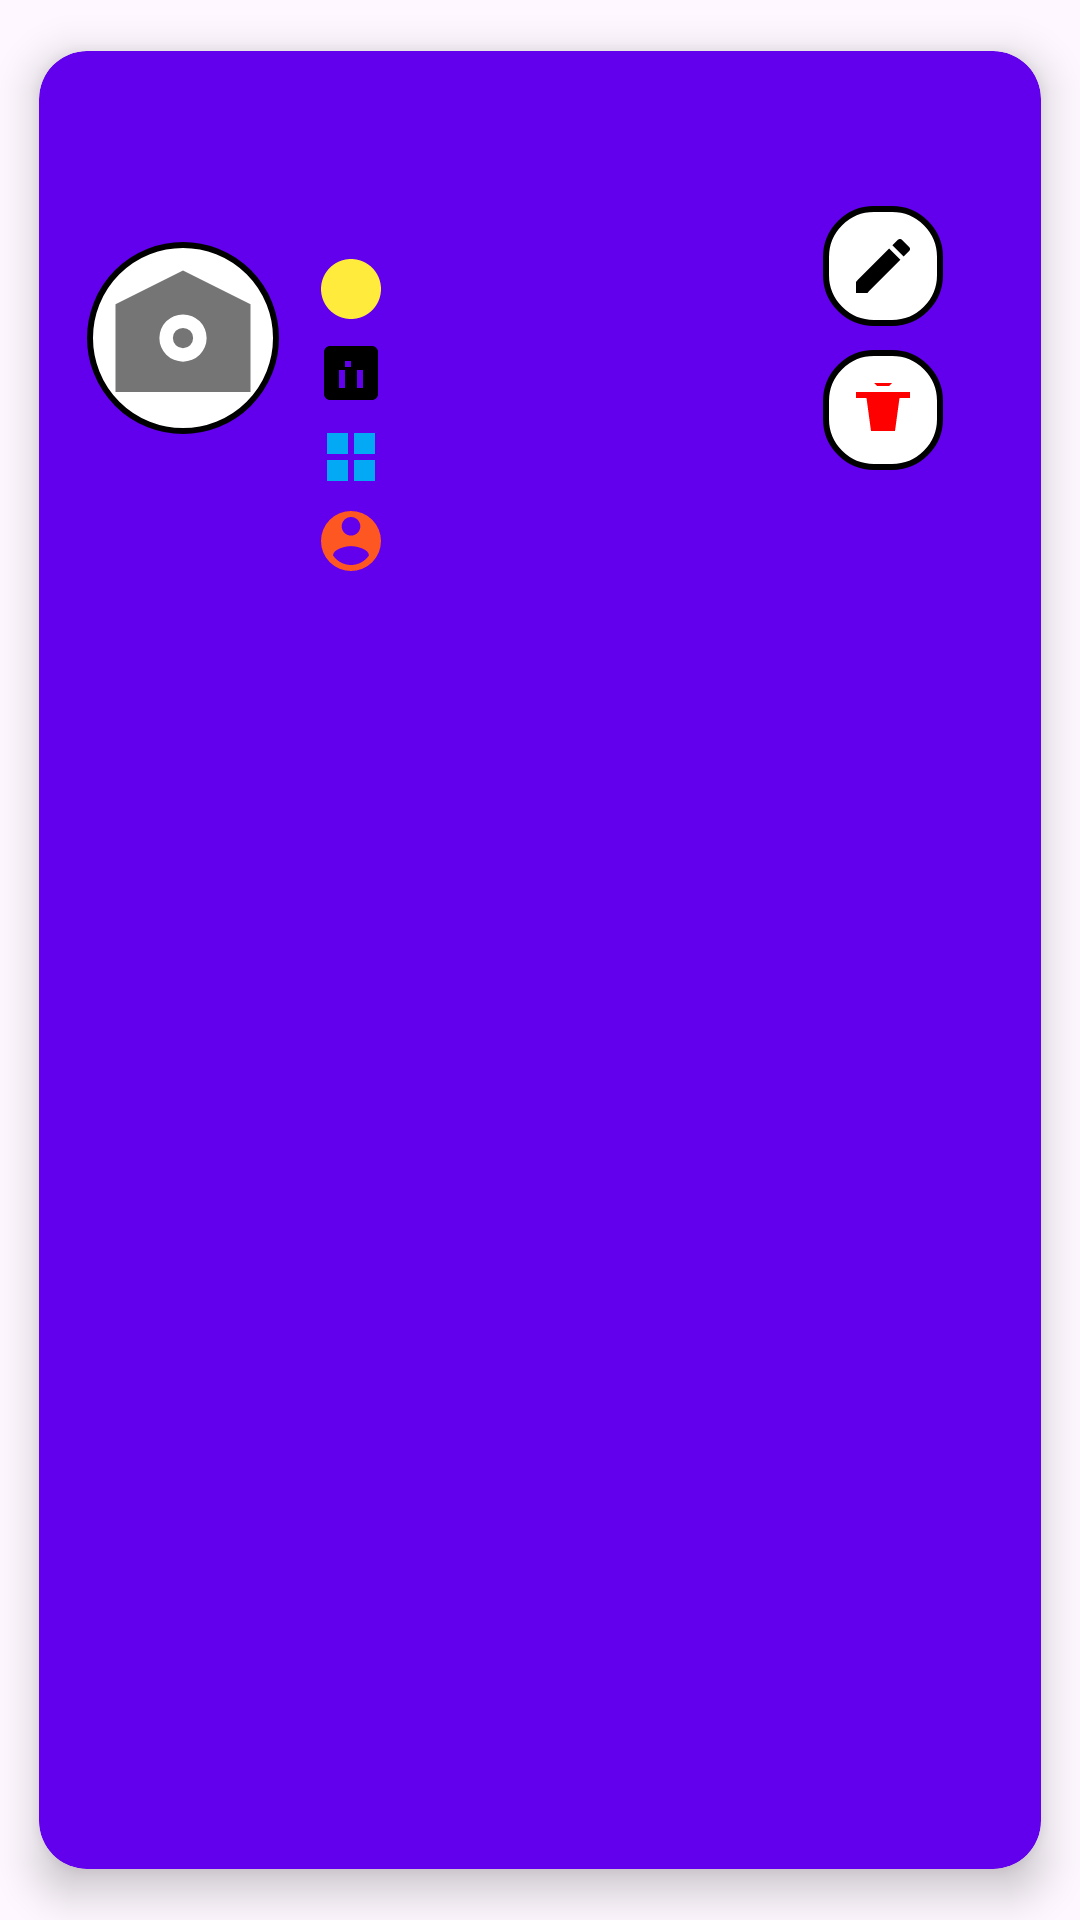

Locate icon controls on the screen. Image size 1080 x 1920, boxes as (left=x1, top=y1, right=x2, bottom=y2).
delete: (left=823, top=350, right=943, bottom=470)
edit: (left=823, top=206, right=943, bottom=326)
